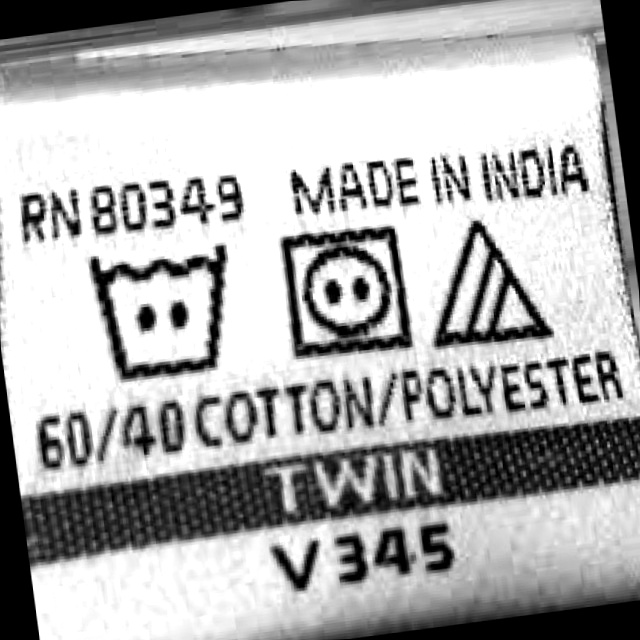40C: (75, 229, 252, 394)
non_chlorine_bleach: (411, 209, 560, 360)
tumble_dry_medium: (269, 214, 422, 366)
